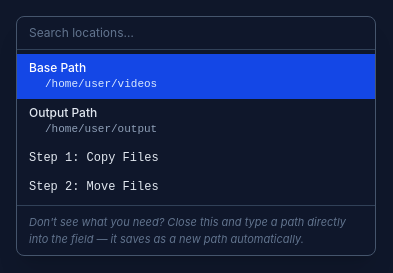
Scenario: LinkPicker items › filters items by query
The image size is (393, 273).
In the field with placeholder "Search locations…": (196, 34) [17,17,375,50], type "base"
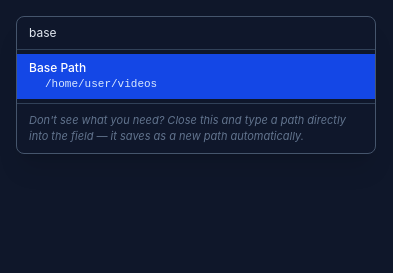
Expected: the text "Base Path" is shown, [29,60,86,75]
Now the option "Output Path" is gone
